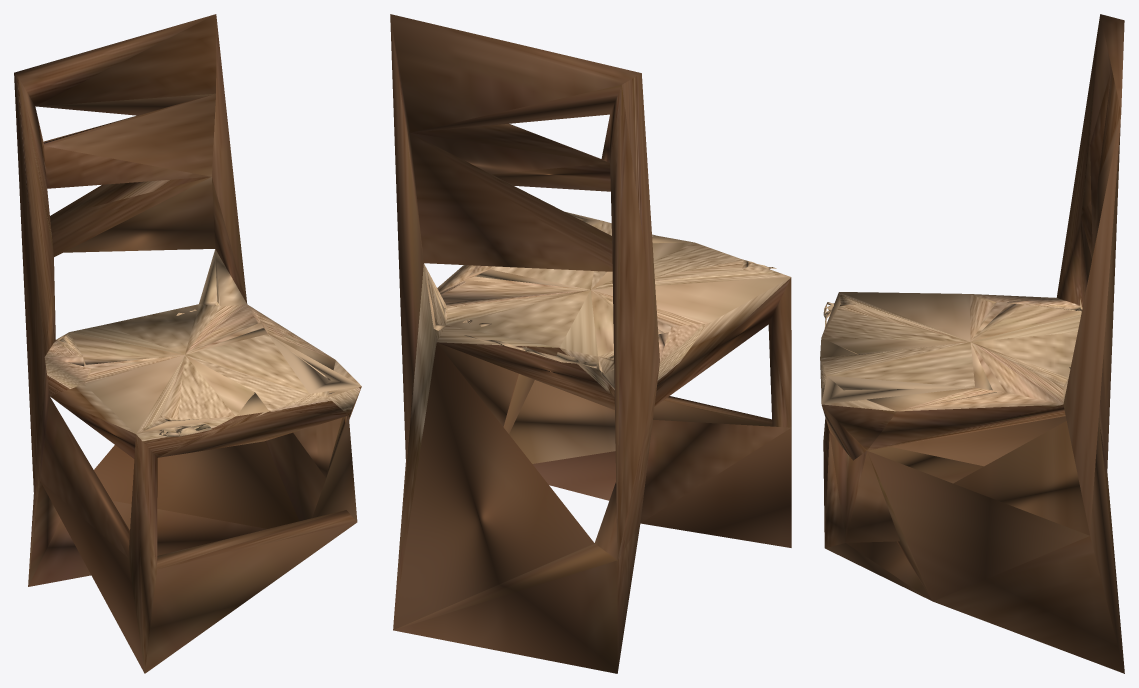
The model's file is chair.glb.
3 views of the same model, side by side, from view 1: azimuth 30°, elevation 25°; view 2: azimuth 150°, elevation 25°; view 3: azimuth 270°, elevation 25° (orthographic). The views are drawn at different scales.
Parts seen in each view (by area): view 1: Mesh_0; view 2: Mesh_0; view 3: Mesh_0.
Part boxes in pixels (left/top/right/bottom): Mesh_0: left=14, top=14, right=361, bottom=673; Mesh_0: left=390, top=14, right=791, bottom=673; Mesh_0: left=820, top=14, right=1124, bottom=673.
Bounding box in the file's own units: 0.3907 × 0.8532 × 0.4188.
Materials: 1 (1 with a texture image).
